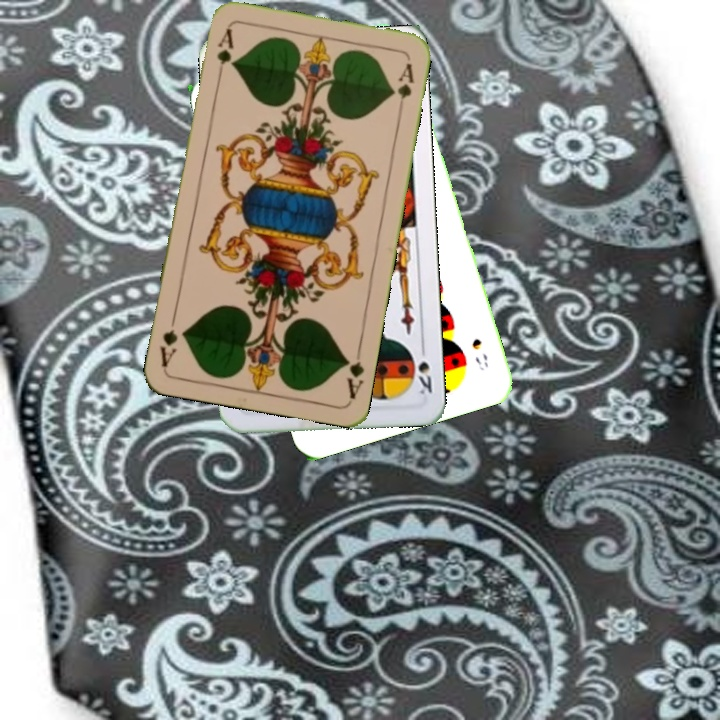GA: (340, 342, 367, 402), (212, 25, 236, 83)
S8: (467, 334, 491, 374)
SK: (413, 340, 435, 397)
